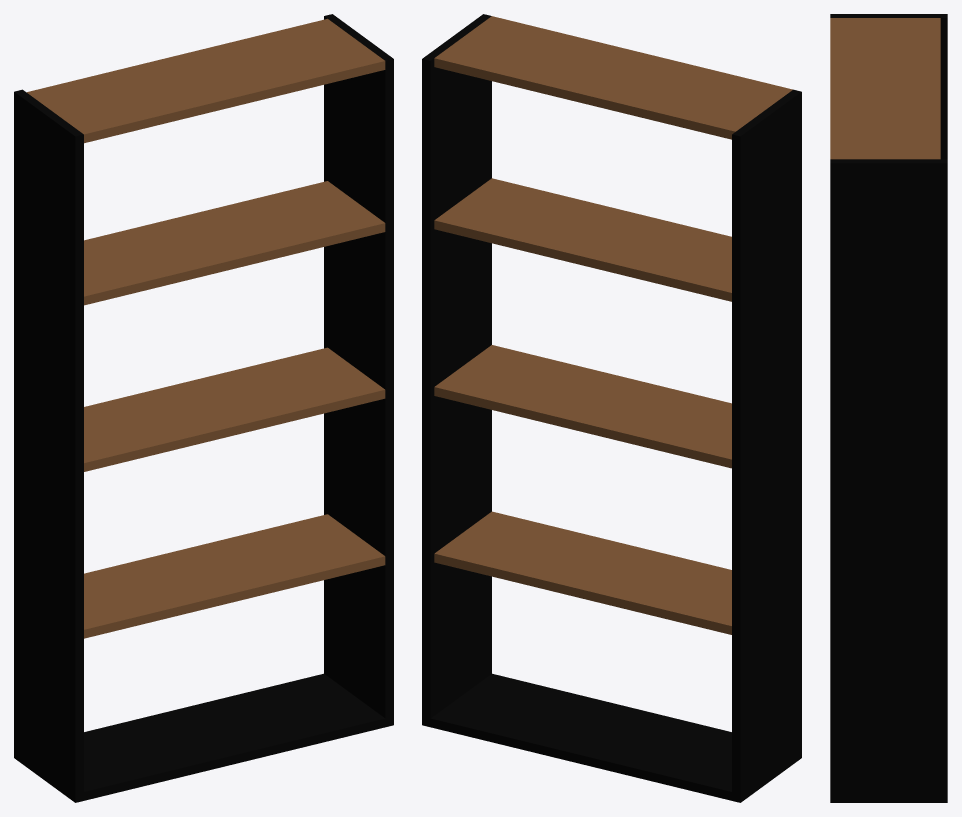
The model's file is shelf.glb.
3 views of the same model, side by side, from view 1: azimuth 30°, elevation 25°; view 2: azimuth 150°, elevation 25°; view 3: azimuth 270°, elevation 25° (orthographic). The views are drawn at different scales.
Visible parts, largest first — view 1: shelf; view 2: shelf; view 3: shelf.
Part boxes in pixels (box(x1,y1,x2,y2)): shelf: box(14, 14, 393, 802); shelf: box(422, 14, 801, 802); shelf: box(830, 14, 947, 802).
Size of the model in its own units: 0.9144 by 1.83 by 0.3048.
